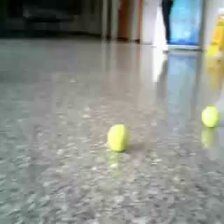tennis: (106, 124, 130, 152), (201, 106, 220, 128)
